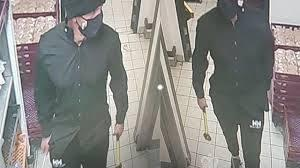weapon: (193, 98, 219, 143), (110, 127, 137, 166), (38, 152, 48, 167)
